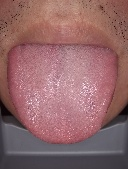tongue: (7, 49, 118, 146)
